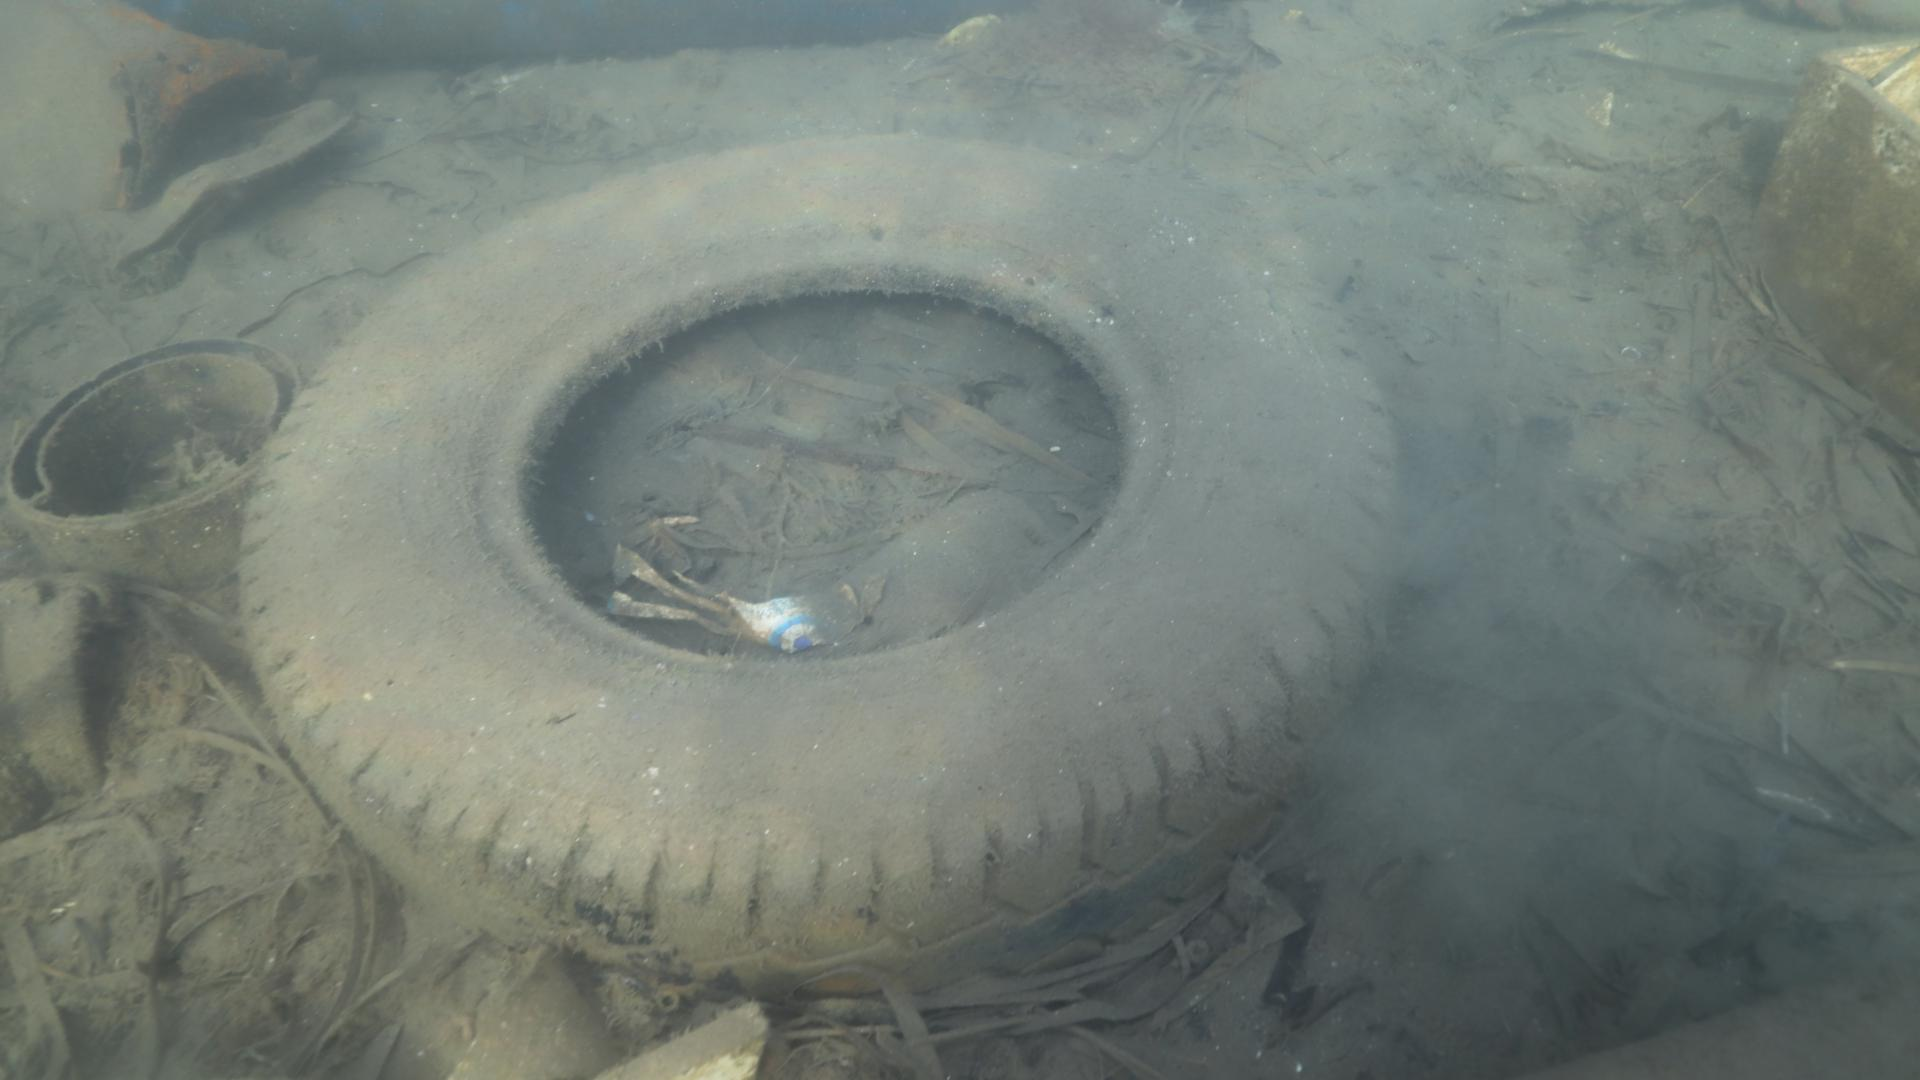tire: (231, 133, 1414, 982)
